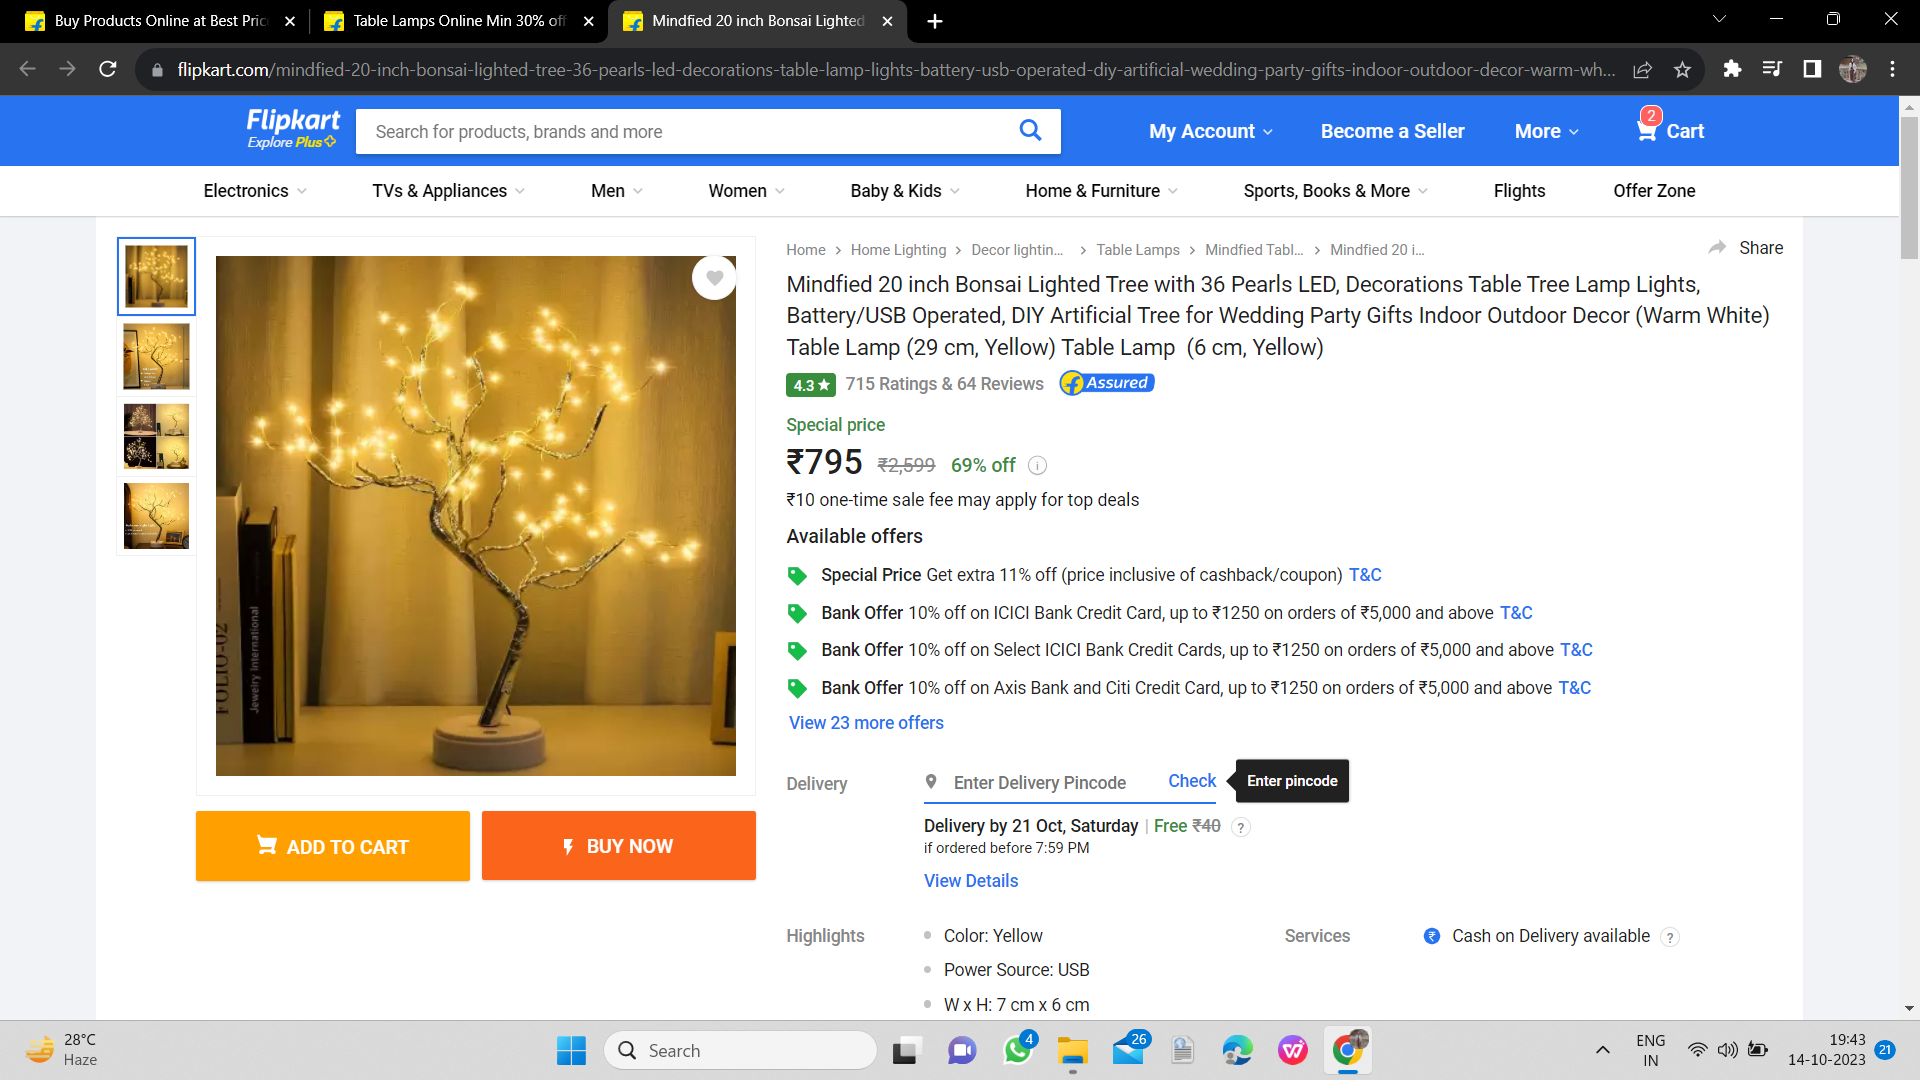Image: (211, 258, 737, 783)
Paragraph: (775, 558, 1613, 749), (775, 262, 1772, 361), (175, 806, 766, 885), (769, 920, 1126, 1017), (1134, 99, 1710, 158), (913, 762, 1369, 800), (773, 361, 1162, 404), (1266, 914, 1651, 955), (782, 413, 1021, 479), (778, 489, 1151, 514), (913, 806, 1145, 837), (775, 520, 931, 549), (773, 762, 869, 800)
